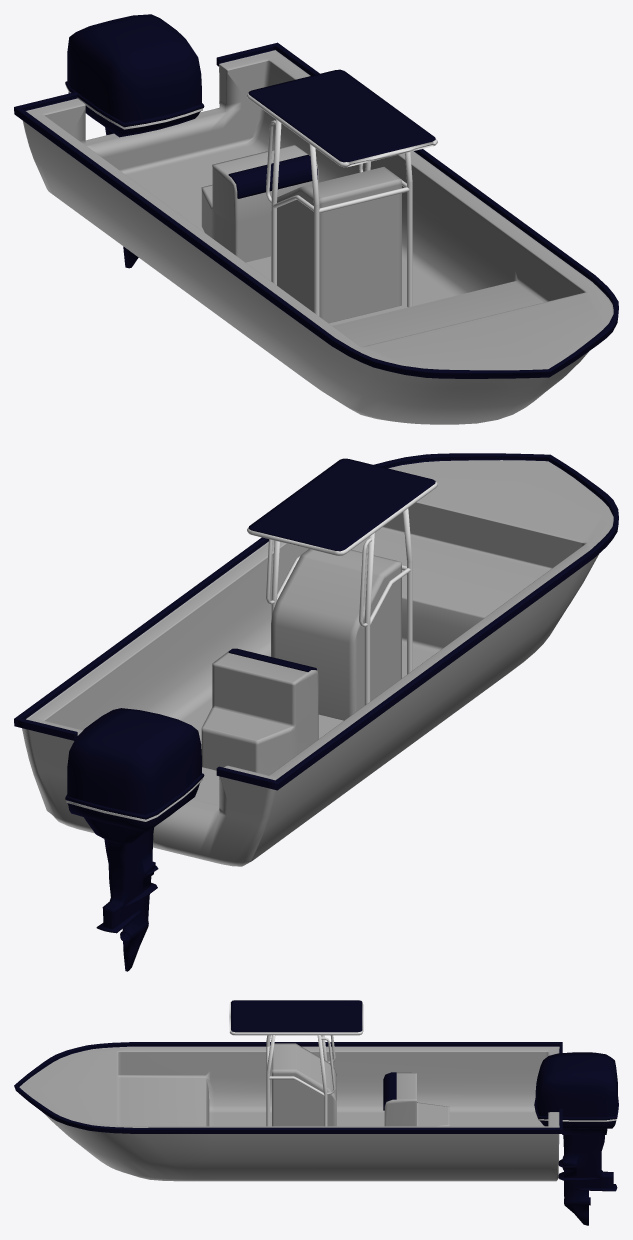
Rendered from boat.glb.
3 views of the same model, one above another, from view 1: azimuth 30°, elevation 25°; view 2: azimuth 150°, elevation 25°; view 3: azimuth 270°, elevation 25° (orthographic). The views are drawn at different scales.
Parts seen in each view (by area): view 1: boat_0, control_1, engine_5, roof_6, seat_2, pole_4, cushion_3; view 2: boat_0, engine_5, control_1, seat_2, roof_6, pole_4; view 3: boat_0, engine_5, control_1, roof_6, seat_2, pole_4, cushion_3.
Part boxes in pixels (left/top/right/bottom): boat_0: left=14, top=42, right=618, bottom=424; control_1: left=271, top=167, right=401, bottom=323; engine_5: left=65, top=14, right=204, bottom=268; roof_6: left=248, top=69, right=435, bottom=162; seat_2: left=201, top=144, right=318, bottom=262; pole_4: left=247, top=93, right=437, bottom=316; cushion_3: left=228, top=155, right=317, bottom=198; boat_0: left=14, top=453, right=618, bottom=866; engine_5: left=65, top=708, right=204, bottom=971; control_1: left=271, top=549, right=401, bottom=720; seat_2: left=201, top=650, right=318, bottom=775; roof_6: left=248, top=458, right=435, bottom=551; pole_4: left=247, top=481, right=437, bottom=705; boat_0: left=14, top=1042, right=562, bottom=1181; engine_5: left=534, top=1052, right=618, bottom=1225; control_1: left=272, top=1043, right=336, bottom=1126; roof_6: left=231, top=1000, right=362, bottom=1032; seat_2: left=384, top=1072, right=449, bottom=1126; pole_4: left=229, top=1002, right=363, bottom=1126; cushion_3: left=383, top=1072, right=396, bottom=1110.
Bounding box in the file's own units: 6.35 × 7.11 × 18.62.
